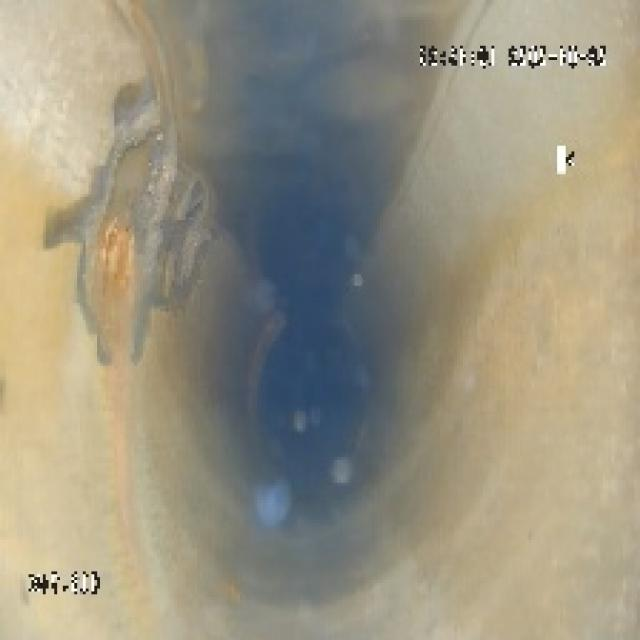pipe_surface_damage: (60, 100, 214, 374)
